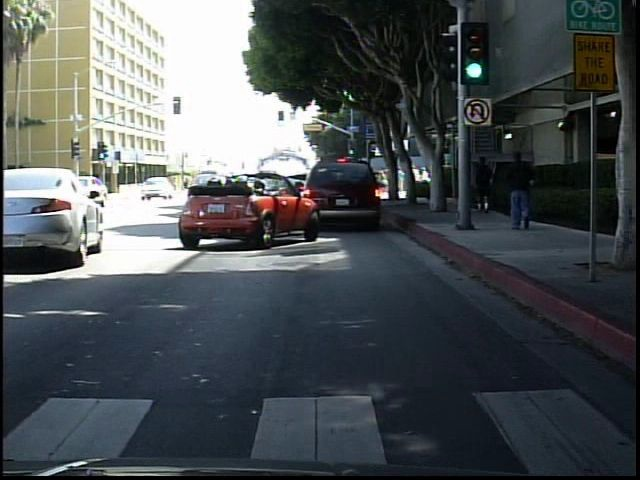person: (504, 141, 540, 234), (472, 149, 502, 219)
